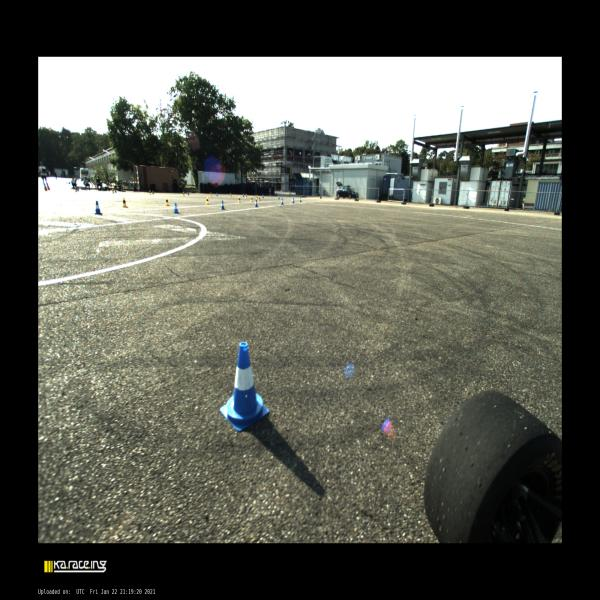blue_cone: (220, 342, 269, 431), (94, 201, 102, 215), (173, 203, 179, 213), (220, 200, 225, 210), (254, 200, 258, 207), (280, 198, 284, 205), (292, 198, 295, 203), (300, 197, 302, 202), (115, 188, 117, 193), (77, 187, 79, 191), (242, 193, 244, 197), (262, 194, 264, 198), (216, 192, 218, 195), (278, 196, 280, 199), (153, 190, 154, 195), (188, 192, 189, 195)
yellow_cone: (122, 197, 128, 208), (166, 198, 170, 206), (206, 196, 209, 204), (238, 196, 241, 202), (250, 196, 253, 202), (258, 196, 260, 201), (112, 189, 114, 194), (256, 195, 258, 200), (245, 194, 247, 198), (210, 192, 212, 196), (183, 192, 185, 196), (149, 191, 151, 195), (75, 188, 77, 192), (230, 193, 231, 197)
